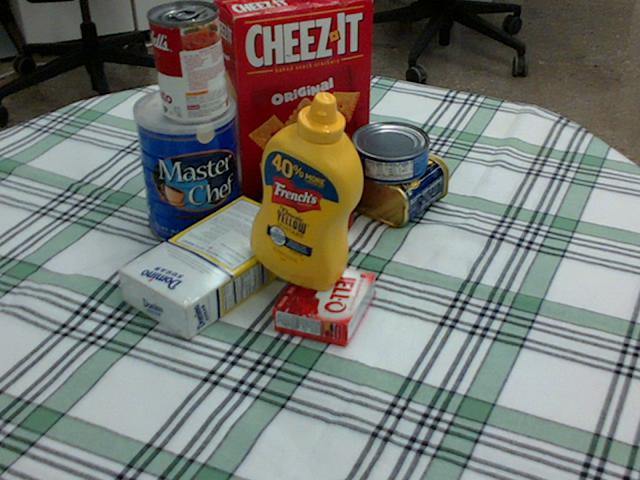cracker_box: (214, 0, 372, 197)
gelatin_box: (272, 260, 375, 345)
master_chef_can: (131, 85, 241, 246)
mug: (272, 137, 360, 239)
mustard_bottle: (250, 91, 363, 290)
potted_meat_can: (332, 134, 446, 224)
sugar_box: (117, 194, 306, 338)
tomato_soup_can: (149, 0, 227, 122)
tuna_fish_can: (350, 122, 428, 183)
